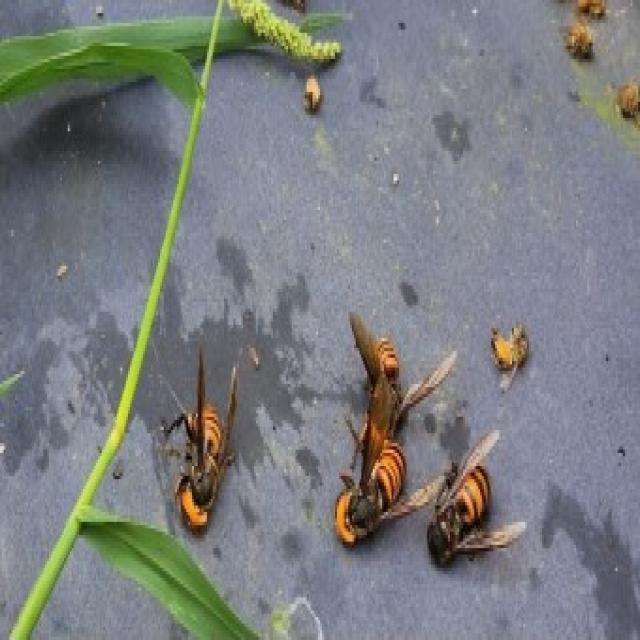Wasp: (156, 353, 237, 531), (323, 398, 412, 554), (436, 430, 497, 566)
